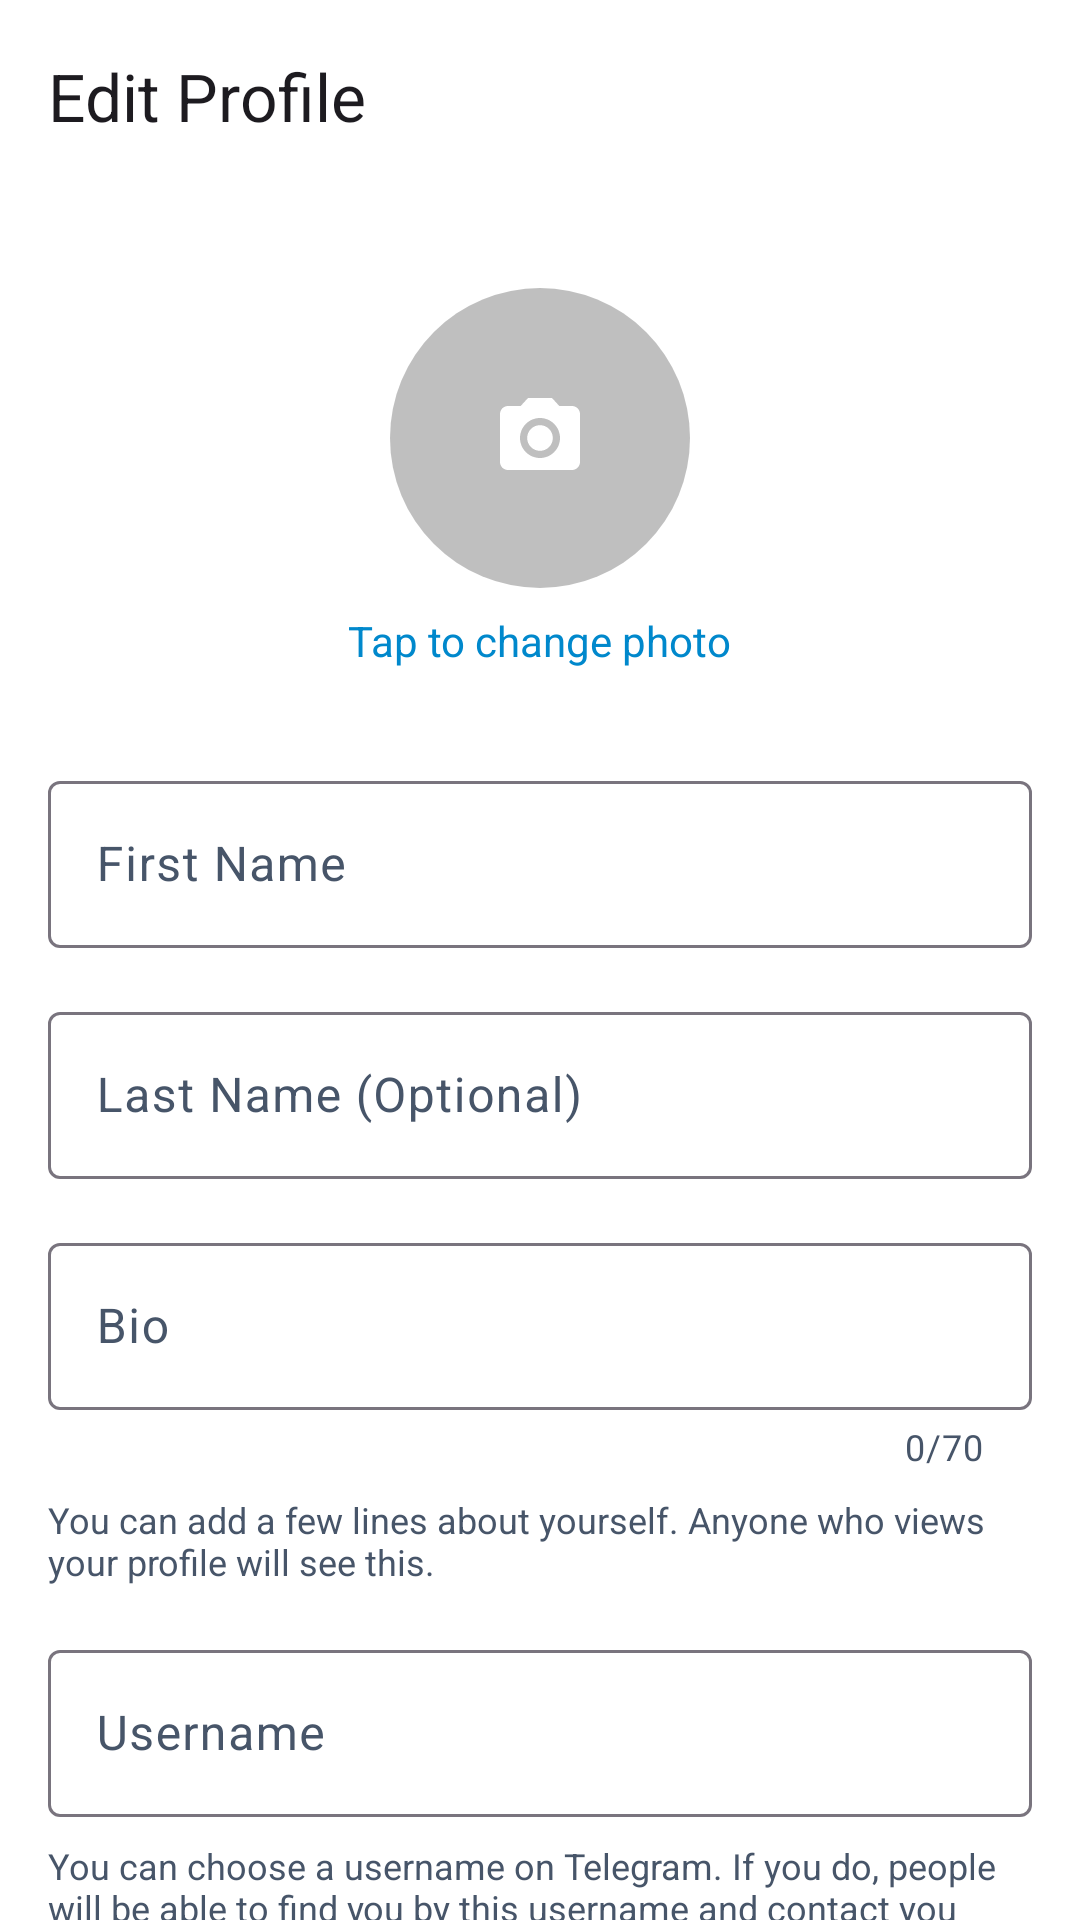

Where icons sit on this 1080px x 1920px app screen, as (x1, y1, x2, y2):
camera: (500, 398, 580, 470)
